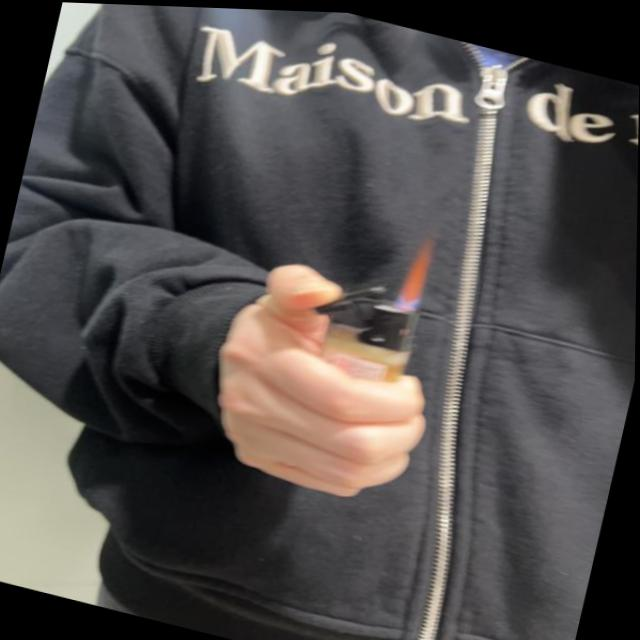Fire: (398, 239, 433, 307)
